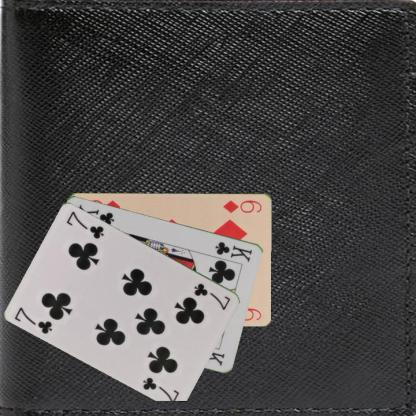6d: (220, 198, 263, 214)
7c: (12, 304, 54, 336), (192, 280, 232, 312)
Kc: (212, 239, 254, 263)
